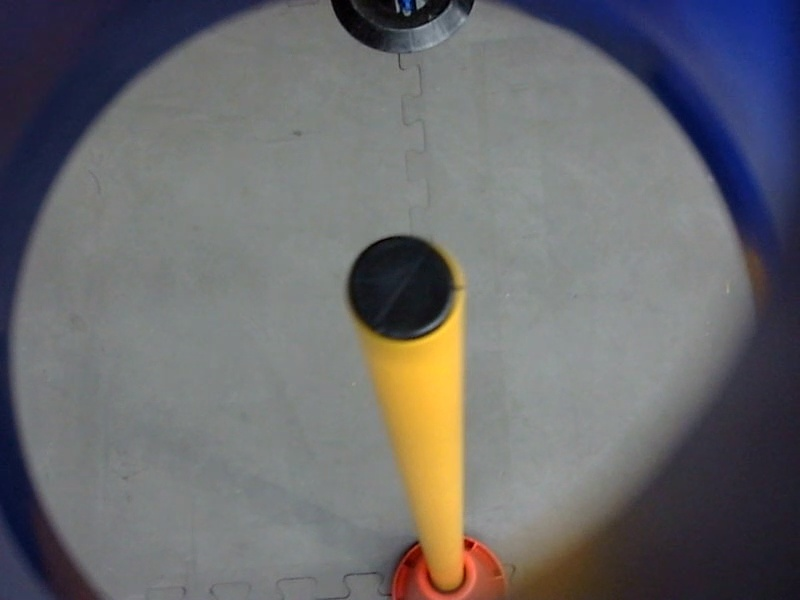tip: (340, 229, 471, 351)
